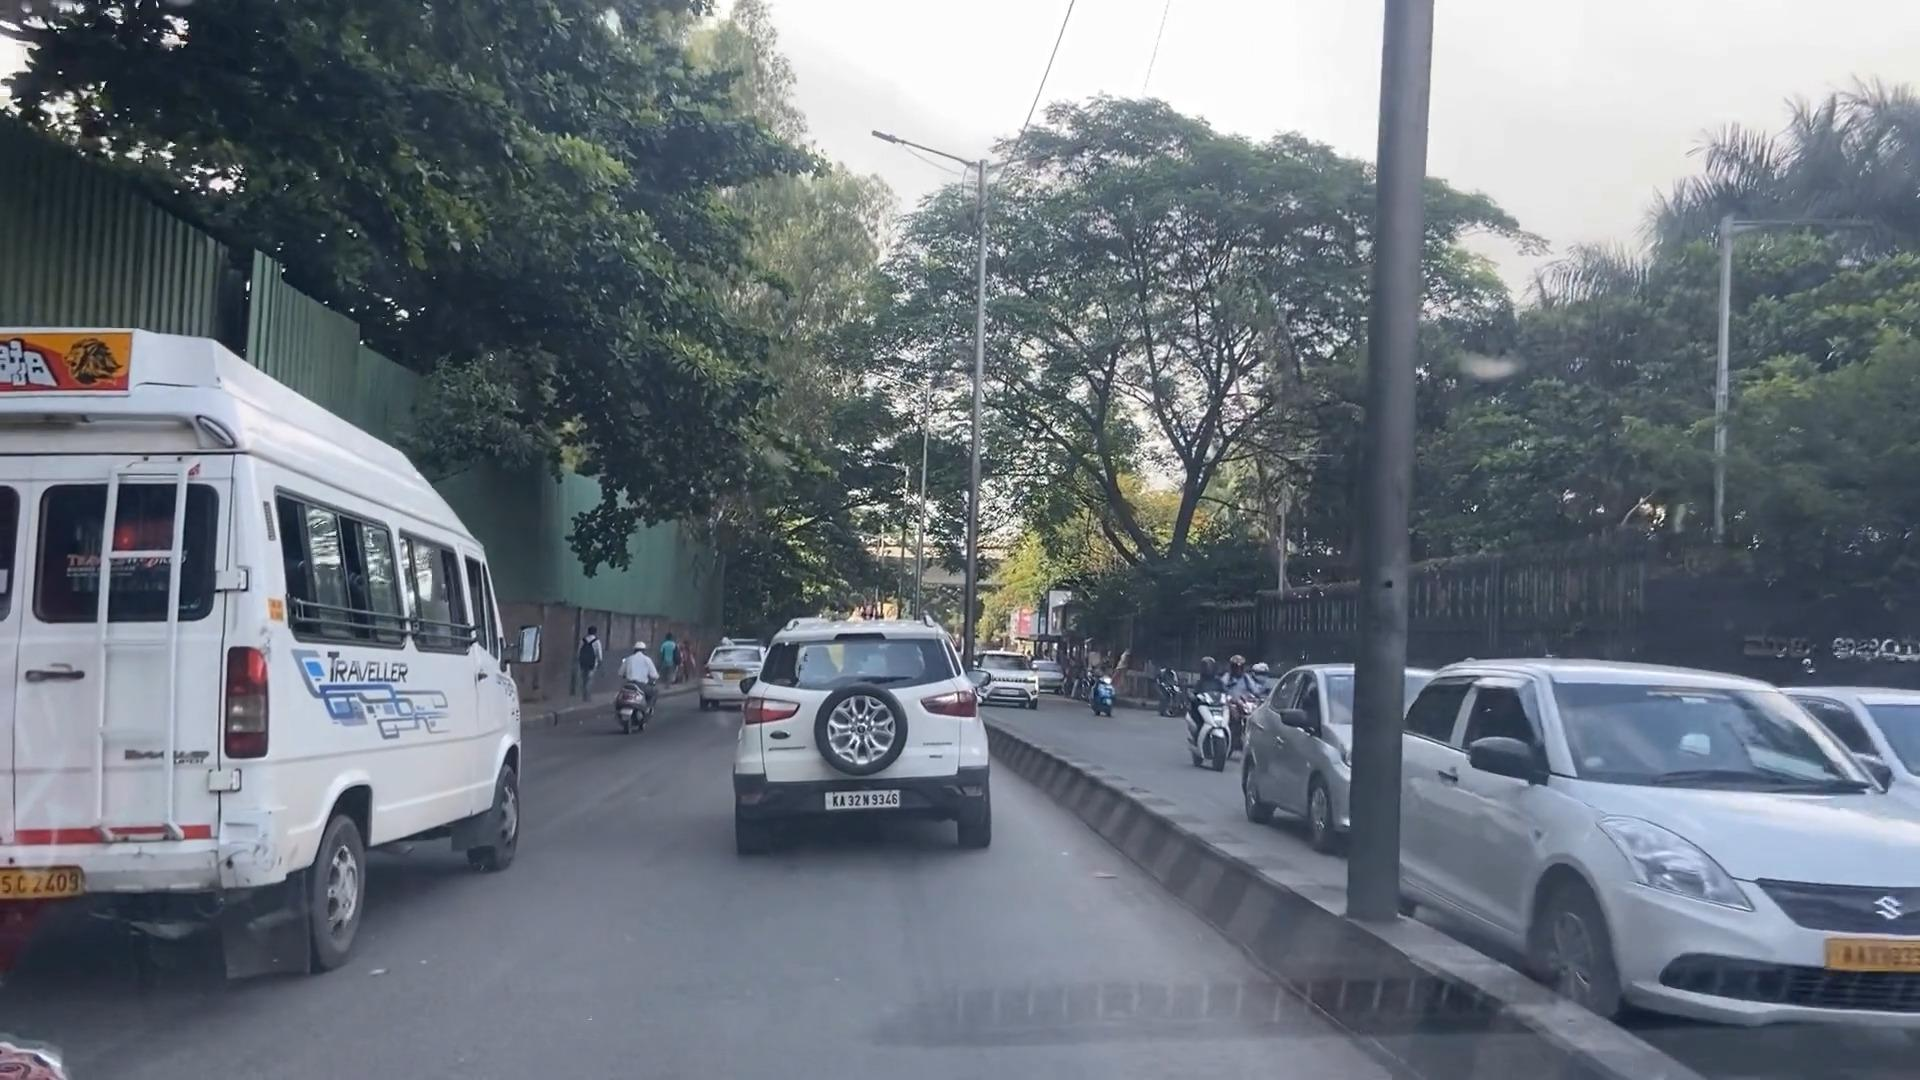HMV: (11, 334, 542, 952)
LMV: (738, 618, 984, 855)
